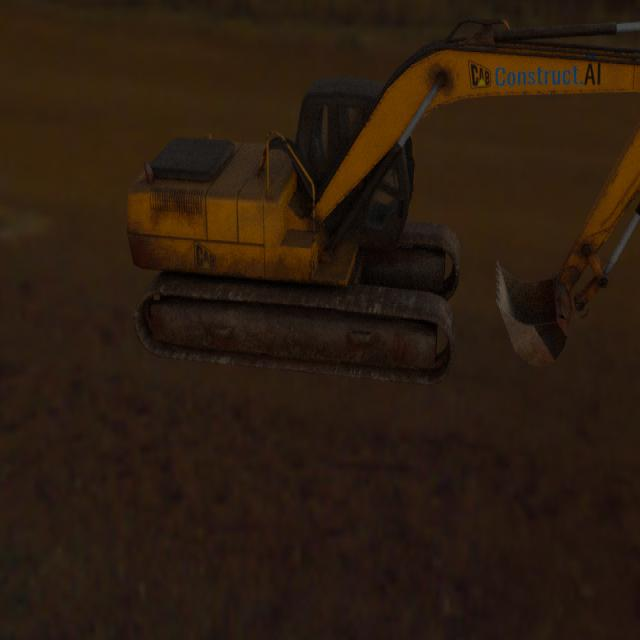excavator: (126, 16, 640, 385)
